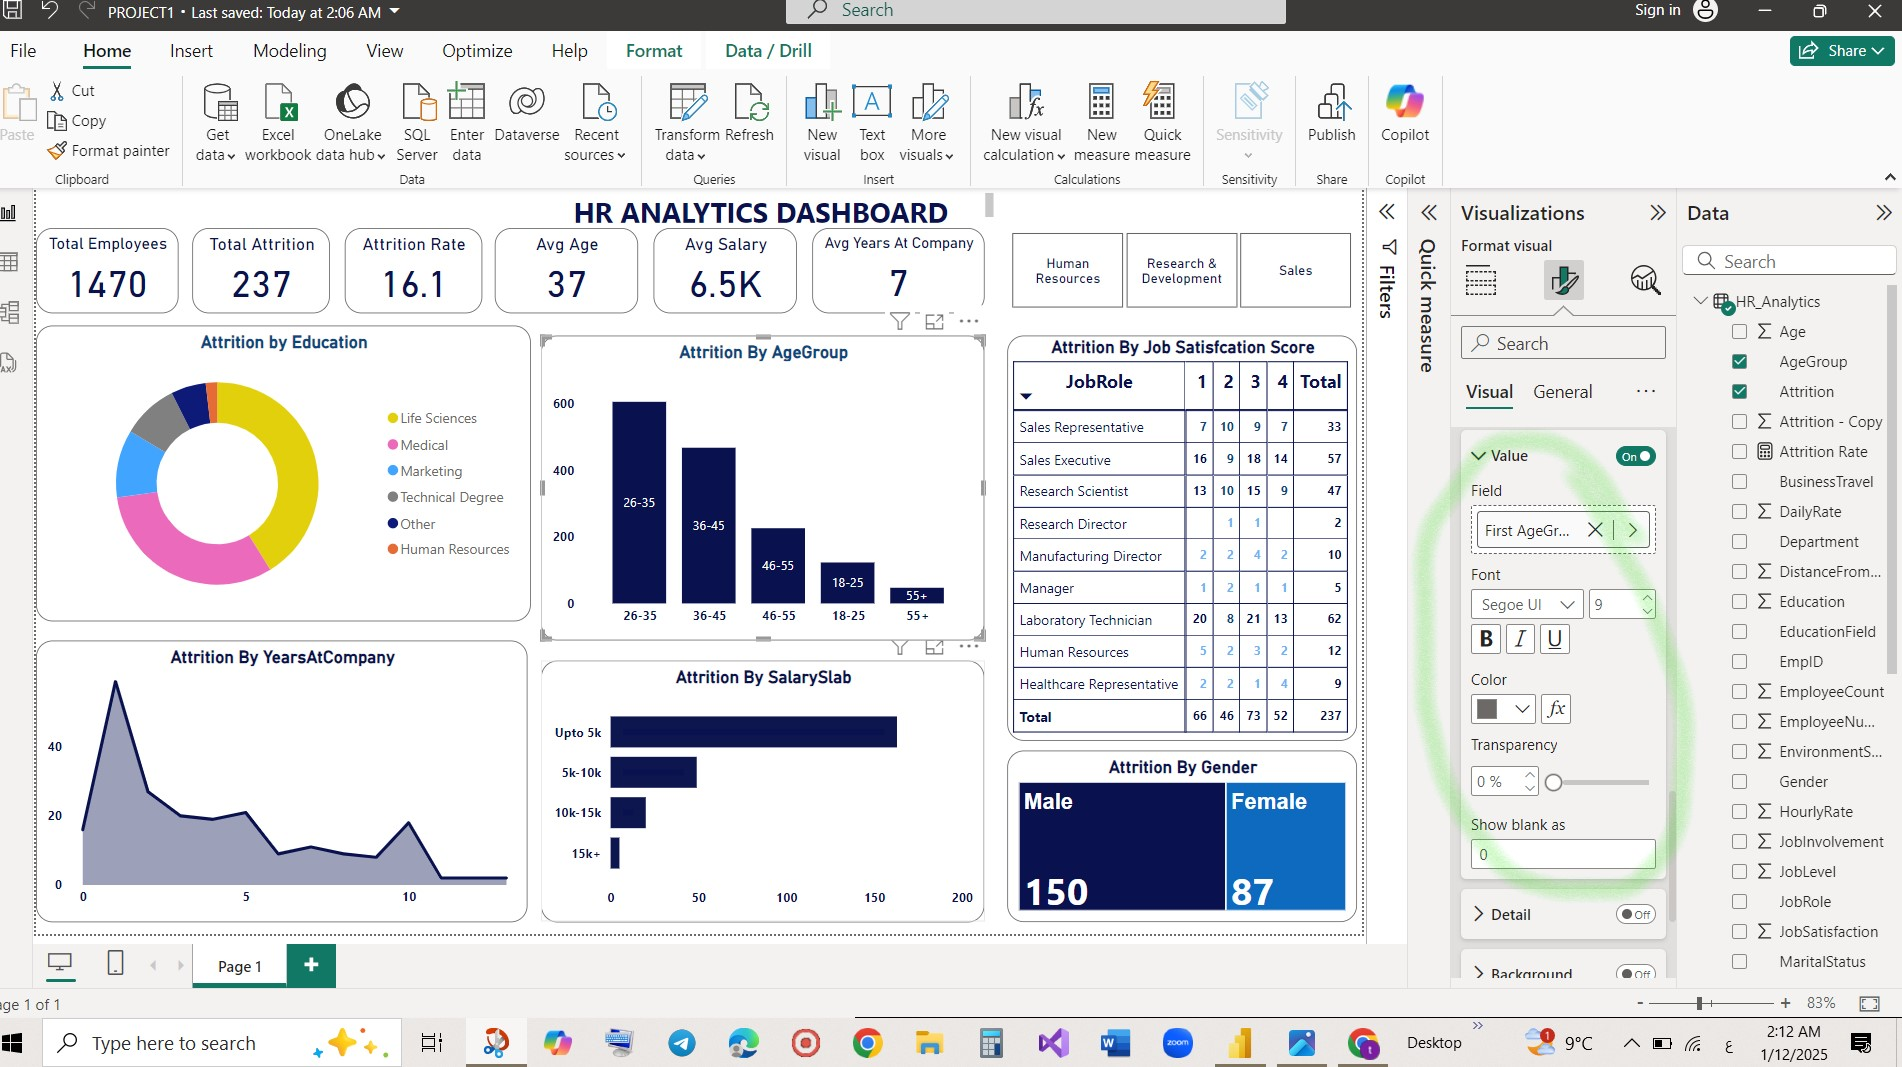

Layout of this report page (visuals, bound fields, positions):
{"tool":"powerbi","page":{"name":"Page 1","canvas":[1280,720],"ordinal":0},"visuals":[{"type":"donutChart","title":" Attrition By Education","fields":{"Category":["HR_Analytics.EducationField"],"Y":["CountNonNull(HR_Analytics.Attrition)"]},"box":[0,150.8,477.8,285.9],"z":0},{"type":"areaChart","title":"Attrition By YearsAtCompany","fields":{"Category":["HR_Analytics.YearsAtCompany"],"Y":["CountNonNull(HR_Analytics.Attrition)"]},"box":[0,448.8,475.3,271.4],"z":1000},{"type":"columnChart","title":" Attrition By AgeGroup","fields":{"Category":["HR_Analytics.AgeGroup"],"Y":["CountNonNull(HR_Analytics.Attrition)"]},"box":[488.6,150.8,428.3,304],"z":2000},{"type":"barChart","title":"Attrition By SalarySlab","fields":{"Category":["HR_Analytics.SalarySlab"],"Y":["CountNonNull(HR_Analytics.Attrition)"]},"box":[487.4,468.1,428.3,252.1],"z":3000},{"type":"treemap","title":"Attrition By Gender","fields":{"Details":["HR_Analytics.Gender"],"Values":["CountNonNull(HR_Analytics.Attrition)"]},"box":[937.4,555,337.8,165.3],"z":4000},{"type":"pivotTable","title":"Attrition By Job Satisfcation Score","fields":{"Rows":["HR_Analytics.JobRole"],"Columns":["HR_Analytics.JobSatisfaction"],"Values":["CountNonNull(HR_Analytics.Attrition)"]},"box":[937.4,150.8,337.8,390.9],"z":5000},{"type":"advancedSlicerVisual","fields":{"Values":["HR_Analytics.Department"]},"box":[937.4,50.7,337.8,82],"z":6000},{"type":"card","title":"Total Employees","fields":{"Values":["Count(HR_Analytics.EmpID)"]},"box":[0,50.7,137.5,82],"z":7000},{"type":"card","title":"Total Attrition","fields":{"Values":["CountNonNull(HR_Analytics.Attrition)"]},"box":[147.2,50.7,132.7,82],"z":8000},{"type":"card","title":"Attrition Rate","fields":{"Values":["Count(HR_Analytics.Attrition)","HR_Analytics.Attrition Rate","Min(HR_Analytics.Attrition)1"]},"box":[289.5,50.7,142.4,82],"z":9000},{"type":"card","title":"Avg Age","fields":{"Values":["Avg(HR_Analytics.Age)"]},"box":[442.8,50.7,138.7,82],"z":10000},{"type":"card","title":"Avg Salary","fields":{"Values":["Avg(HR_Analytics.MonthlyIncome)"]},"box":[591.2,50.7,138.7,82],"z":11000},{"type":"card","title":"Avg Years At Company","fields":{"Values":["Avg(HR_Analytics.YearsAtCompany)"]},"box":[738.6,50.9,177.5,81.9],"z":12000},{"type":"textbox","box":[477.2,0,451.9,50.6],"z":13000}]}

Visuals, with their boxes on the page's 1280x720 design canvas (x1, y1, x2, y2). These are canvas units, not pixel positions in the 1902x1067 screenshot, which may show the page scaled, cropped or inside an application window:
" Attrition By Education" donutChart: bbox=[0, 151, 478, 437]
"Attrition By YearsAtCompany" areaChart: bbox=[0, 449, 475, 720]
" Attrition By AgeGroup" columnChart: bbox=[489, 151, 917, 455]
"Attrition By SalarySlab" barChart: bbox=[487, 468, 916, 720]
"Attrition By Gender" treemap: bbox=[937, 555, 1275, 720]
"Attrition By Job Satisfcation Score" pivotTable: bbox=[937, 151, 1275, 542]
advancedSlicerVisual - HR_Analytics.Department: bbox=[937, 51, 1275, 133]
"Total Employees" card: bbox=[0, 51, 138, 133]
"Total Attrition" card: bbox=[147, 51, 280, 133]
"Attrition Rate" card: bbox=[290, 51, 432, 133]
"Avg Age" card: bbox=[443, 51, 582, 133]
"Avg Salary" card: bbox=[591, 51, 730, 133]
"Avg Years At Company" card: bbox=[739, 51, 916, 133]
textbox: bbox=[477, 0, 929, 51]
